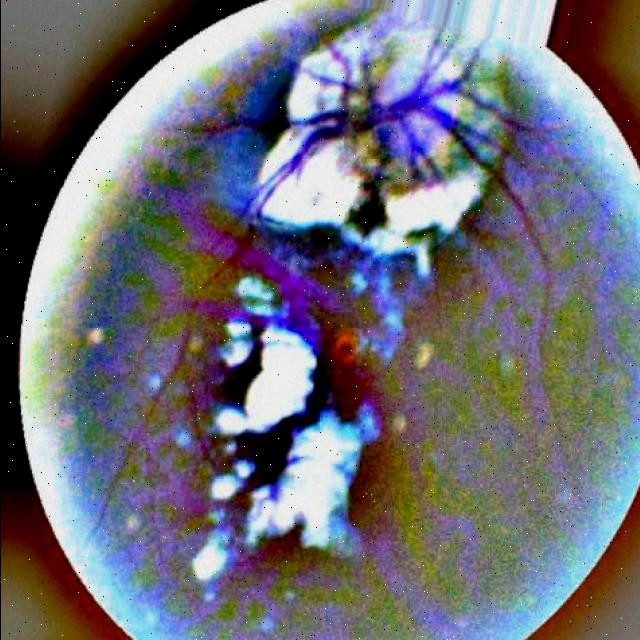Nerves: (97, 20, 572, 546)
Optic Disk: (367, 31, 458, 156)
